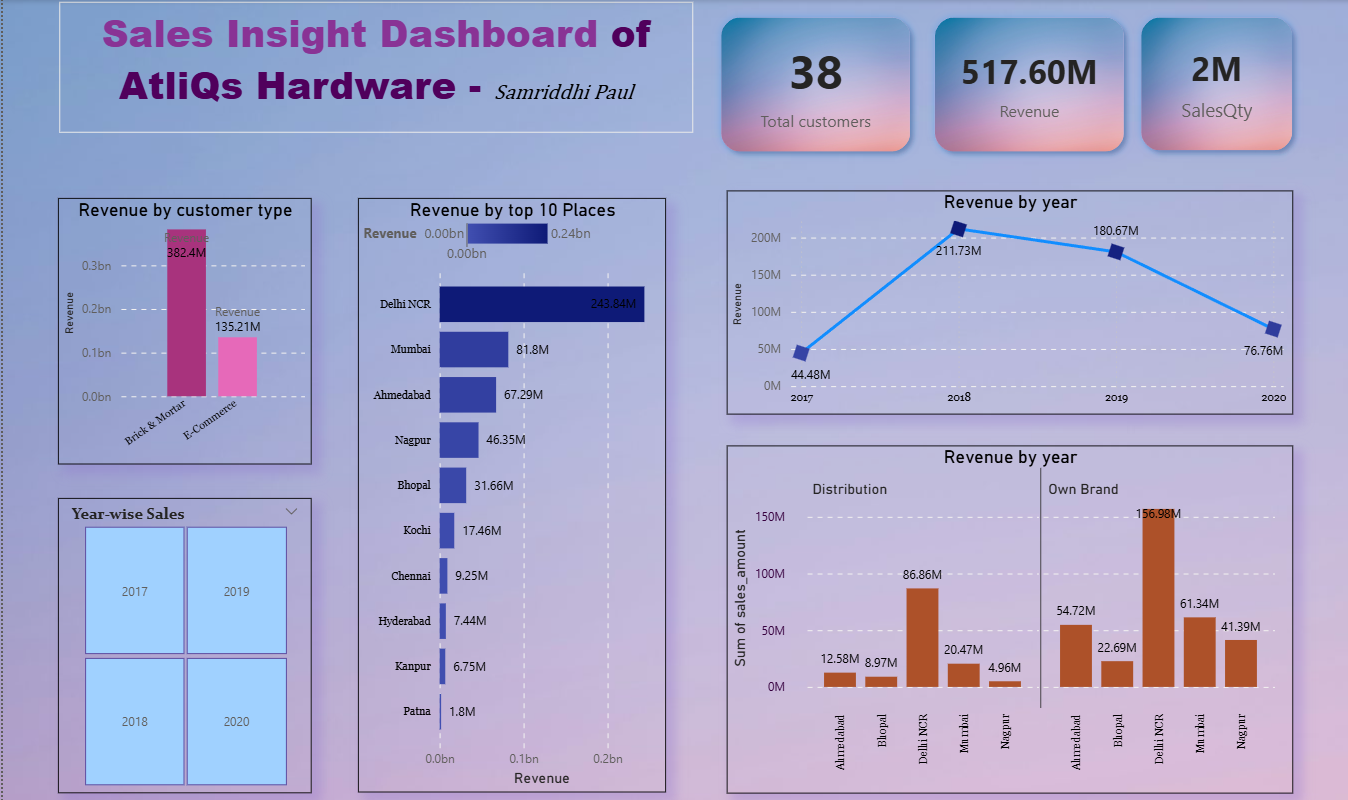

The page's visual inventory and layout, read from the dashboard file:
{"tool":"powerbi","page":{"name":"Page 2","canvas":[1350,850],"ordinal":1},"visuals":[{"type":"cardVisual","fields":{"Data":["BaseMeasures.SalesQty"]},"box":[1121,28,185,167],"z":1000},{"type":"clusteredColumnChart","fields":{"Category":["sales customers.customer_type"],"Y":["BaseMeasures.Revenue"]},"box":[55.6,225.6,253.3,266.7],"z":2000},{"type":"cardVisual","fields":{"Data":["BaseMeasures.Revenue"]},"box":[915,27,223,168],"z":2001},{"type":"slicer","fields":{"Values":["sales date.year"]},"box":[55.6,525.6,253.3,285.6],"z":2002},{"type":"clusteredBarChart","title":"Revenue by top 10 Places","fields":{"Y":["BaseMeasures.Revenue"],"Category":["sales markets.markets_name","sales customers.customer_type"]},"box":[355.6,225.6,307.8,594.4],"z":2003},{"type":"lineChart","title":"Revenue by year","fields":{"Y":["BaseMeasures.Revenue"],"Category":["sales date.cy_date.Variation.Date Hierarchy.Year"]},"box":[724,217,566,224],"z":2004},{"type":"columnChart","title":"Revenue by year","fields":{"Category":["sales markets.markets_name"],"Y":["Sum(sales transactions.sales_amount)"],"Rows":["sales products.product_type"]},"box":[724,472,566,348],"z":2005},{"type":"textbox","box":[57,28,633,169],"z":2006},{"type":"cardVisual","fields":{"Data":["Sum(sales transactions.sales_amount)"]},"box":[708,27,223,168],"z":2007}]}

Visuals, with their boxes on the page's 1350x850 design canvas (x1, y1, x2, y2). These are canvas units, not pixel positions in the 1348x800 screenshot, which may show the page scaled, cropped or inside an application window:
cardVisual - BaseMeasures.SalesQty: [1121,28,1306,195]
clusteredColumnChart - sales customers.customer_type x BaseMeasures.Revenue: [56,226,309,492]
cardVisual - BaseMeasures.Revenue: [915,27,1138,195]
slicer - sales date.year: [56,526,309,811]
"Revenue by top 10 Places" clusteredBarChart: [356,226,663,820]
"Revenue by year" lineChart: [724,217,1290,441]
"Revenue by year" columnChart: [724,472,1290,820]
textbox: [57,28,690,197]
cardVisual - Sum(sales transactions.sales_amount): [708,27,931,195]
